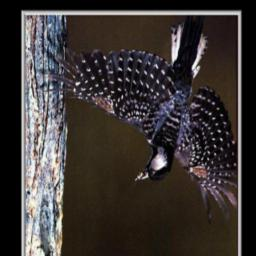Woodpecker: (44, 19, 238, 218)
